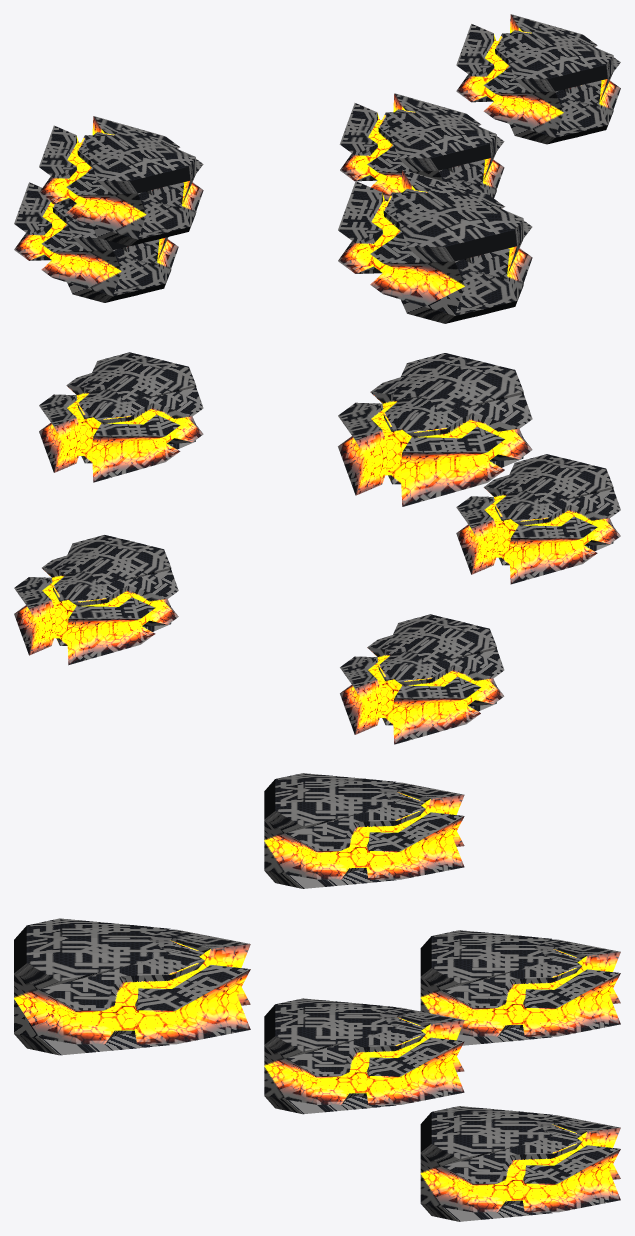
File: warp-engines.fbx
3 views of the same model, one above another, from view 1: azimuth 30°, elevation 25°; view 2: azimuth 150°, elevation 25°; view 3: azimuth 270°, elevation 25° (orthographic). The views are drawn at different scales.
Parts seen in each view (by area): view 1: WarpEngine.001, WarpEngine, WarpEngine.002; view 2: WarpEngine.001, WarpEngine, WarpEngine.002; view 3: WarpEngine.001, WarpEngine, WarpEngine.002.
Part boxes in pixels (left/top/right/bottom): WarpEngine.001: left=39, top=14, right=620, bottom=246; WarpEngine: left=14, top=93, right=504, bottom=302; WarpEngine.002: left=338, top=169, right=532, bottom=323; WarpEngine.001: left=39, top=352, right=620, bottom=584; WarpEngine: left=14, top=535, right=504, bottom=744; WarpEngine.002: left=338, top=353, right=532, bottom=506; WarpEngine.001: left=264, top=773, right=464, bottom=1114; WarpEngine: left=420, top=930, right=620, bottom=1221; WarpEngine.002: left=14, top=918, right=250, bottom=1055.
Bounding box in the file's own units: 1644 × 561 × 1436.
